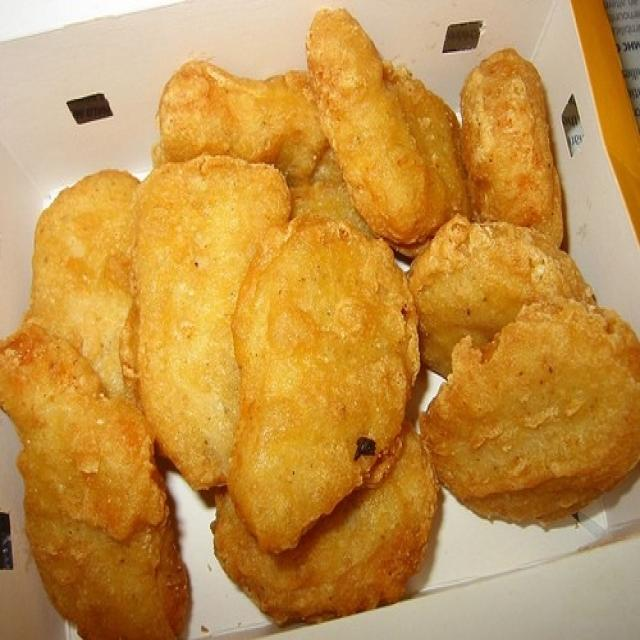鸡肉料理 含炸鸡: (11, 17, 630, 626)
